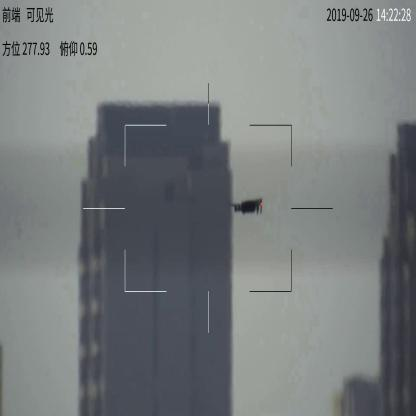uav: (226, 195, 269, 218)
